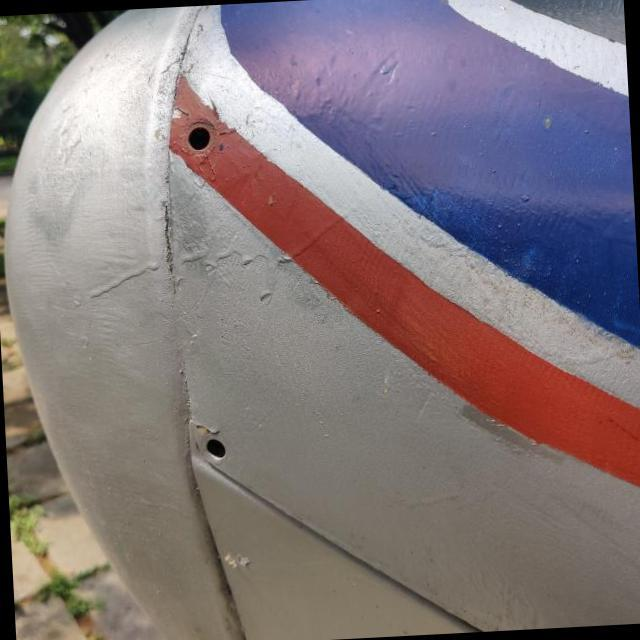Fastener Damage: (156, 92, 240, 176), (175, 410, 252, 488)
